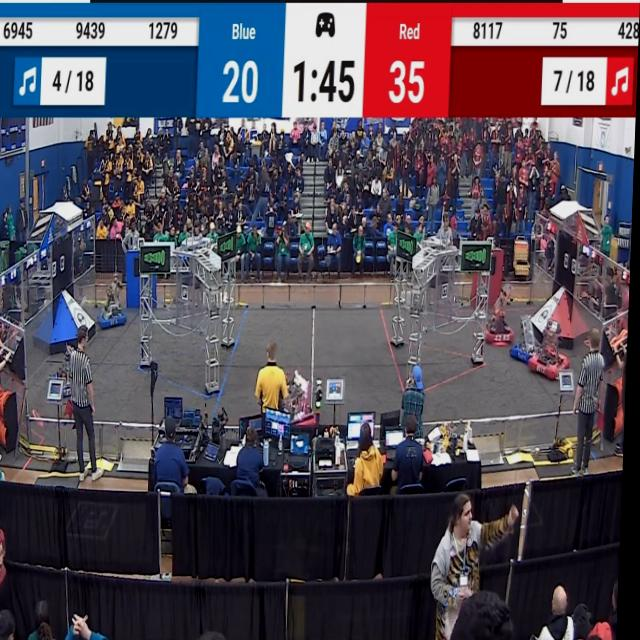Robot: (529, 314, 573, 383), (277, 364, 320, 432), (486, 278, 518, 354), (512, 302, 544, 366), (99, 274, 129, 332)
